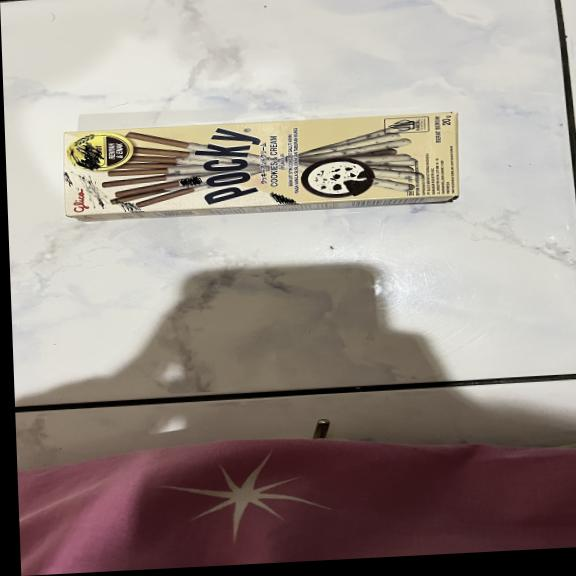Kertas: (63, 110, 459, 216)
